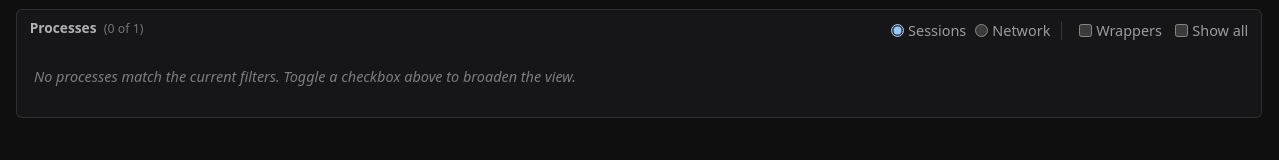
Test: ProcessesPanel › warns that a checked row is serving a port
Click the radio button labelled "Network" at coordinates (981, 31), box [975,24,988,37]
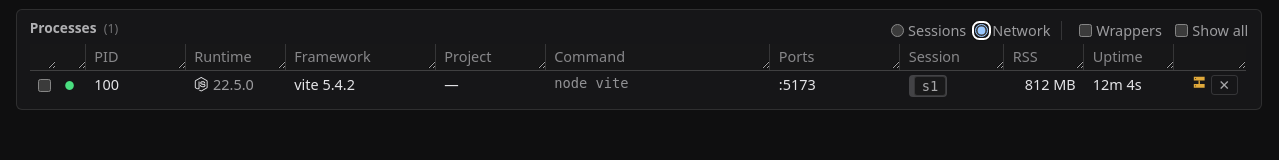
Expected: the picture named "serving a listening port" is shown, [1192,75,1206,90]
Click the checkbox named "Select PID 100" at coordinates (45, 86), box [38,80,51,92]
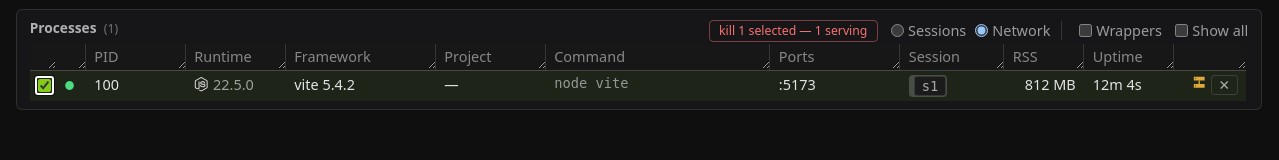
Expected: the button "kill 1 selected — 1 serving" is shown, [709,20,878,42]
